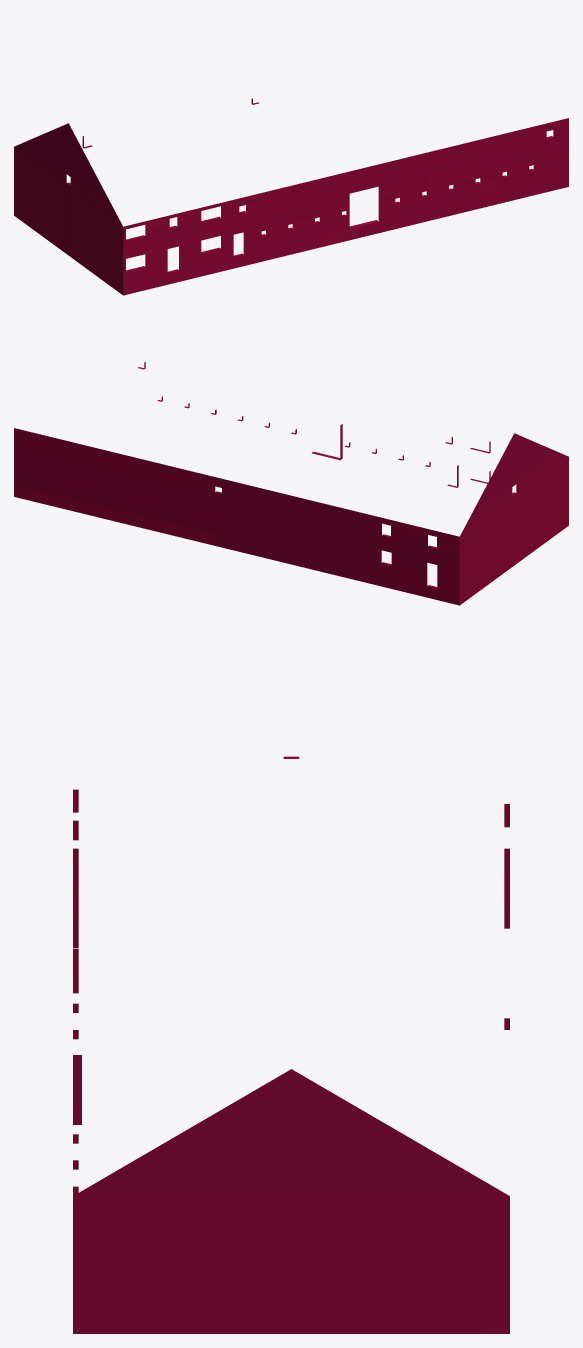
File: SM_Bld_178_Masonry.glb
3 renders of one model, top to bottom at view 1: azimuth 30°, elevation 25°; view 2: azimuth 150°, elevation 25°; view 3: azimuth 270°, elevation 25°, orthographic. The views are drawn at different scales.
Parts seen in each view (by area): view 1: SM_Bld_178_Masonry; view 2: SM_Bld_178_Masonry; view 3: SM_Bld_178_Masonry.
Boxes of the visible parts, x1,y1,x2,y2 form: SM_Bld_178_Masonry: (14,98,568,295); SM_Bld_178_Masonry: (14,362,568,605); SM_Bld_178_Masonry: (73,756,509,1333).
Size of the model in its own units: 39.96 by 11.35 by 16.97.
